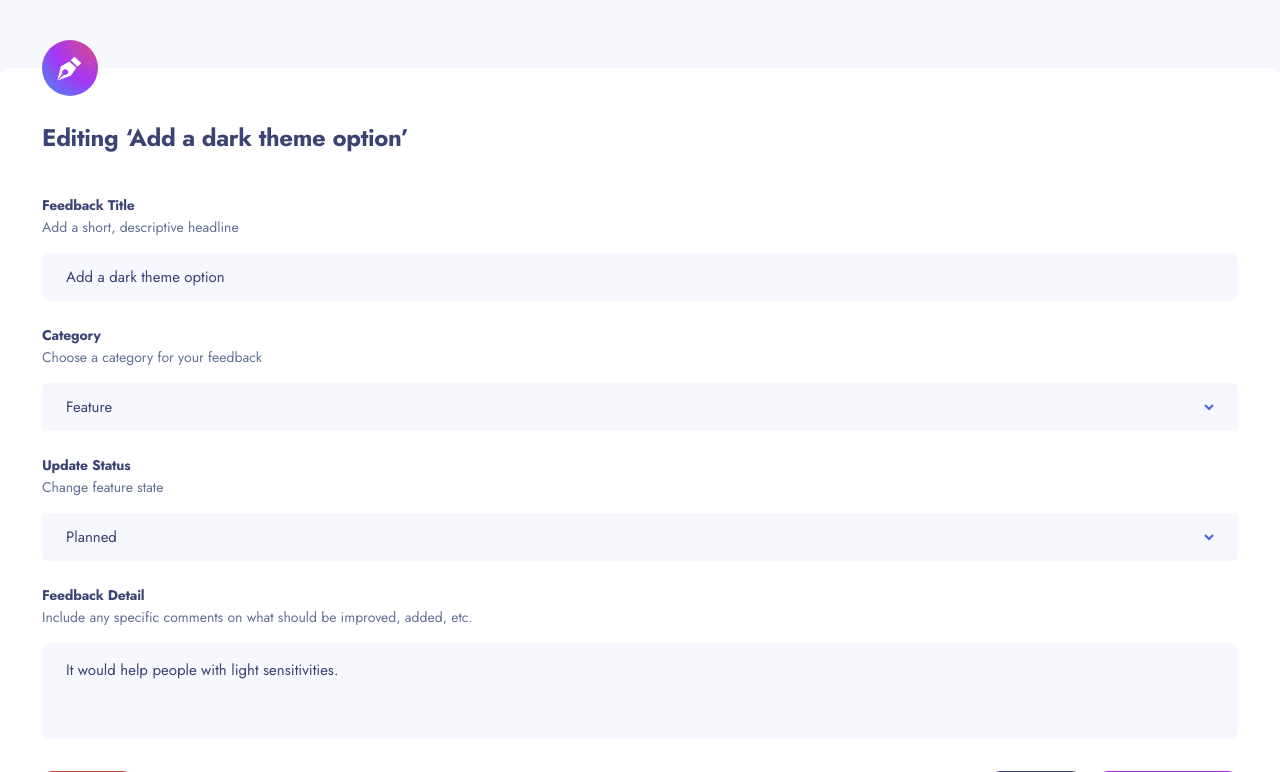
Test: EditFeedbackForm › offers all four states, with the stored one selected
The width and height of the screenshot is (1280, 772).
Click the dropdown named "Update Status".
click(91, 537)  # box [42, 513, 1238, 561]
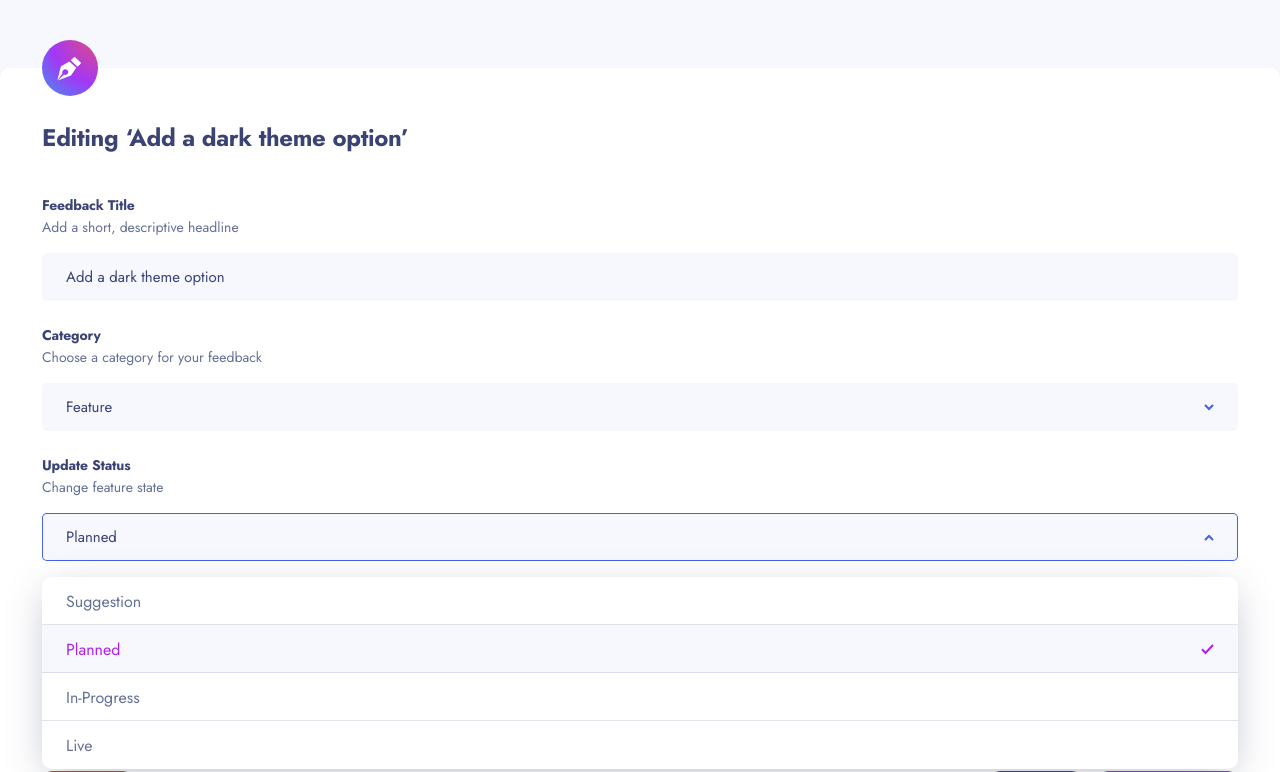
Now the options read "Suggestion", "Planned", "In-Progress", "Live", in this order, box [42, 577, 1238, 625]; [42, 625, 1238, 673]; [42, 673, 1238, 721]; [66, 734, 92, 756]
